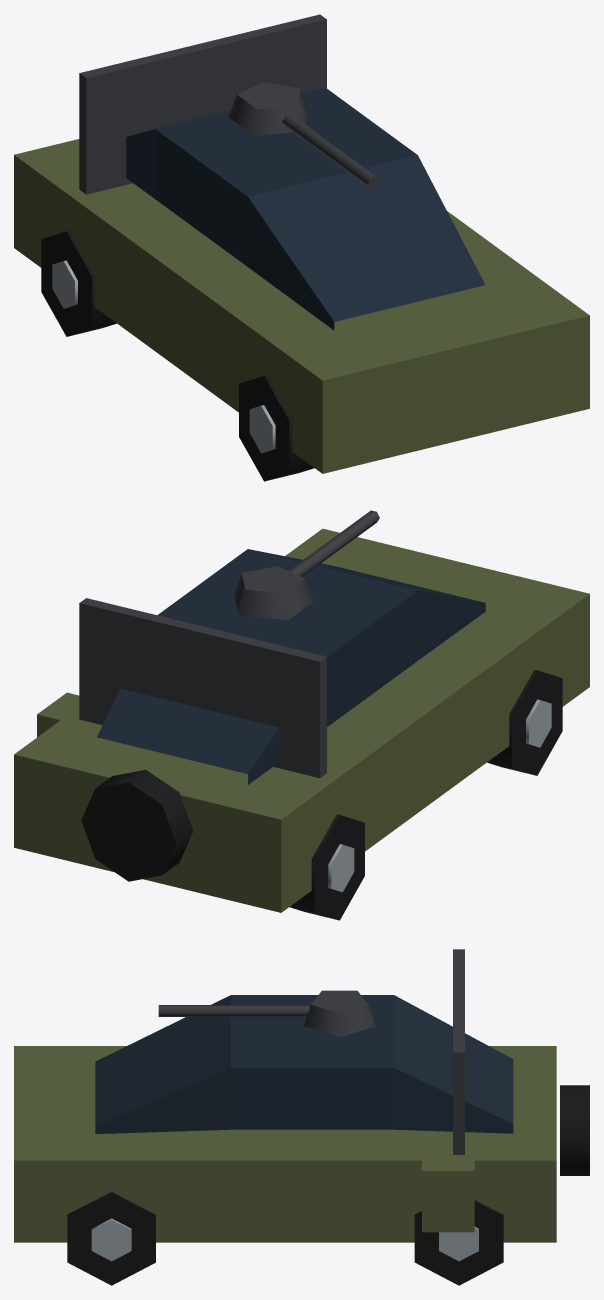
File: veh_ground_jeep_a07_lod1.glb
3 views of the same model, one above another, from view 1: azimuth 30°, elevation 25°; view 2: azimuth 150°, elevation 25°; view 3: azimuth 270°, elevation 25° (orthographic). The views are drawn at different scales.
Visible parts, largest first — view 1: body, wheel_0, wheel_2, gun; view 2: body, gun, wheel_2, wheel_0; view 3: body, wheel_3, wheel_1, gun.
Boxes of the visible parts, box(x1,y1,x2,y2) form: body: box(14, 14, 589, 473); wheel_0: box(41, 230, 116, 336); wheel_2: box(239, 375, 314, 481); gun: box(228, 82, 379, 188); body: box(14, 528, 589, 912); gun: box(234, 510, 379, 619); wheel_2: box(487, 669, 562, 775); wheel_0: box(289, 814, 364, 920); body: box(14, 949, 589, 1242); wheel_3: box(67, 1191, 155, 1285); wheel_1: box(414, 1200, 503, 1285); gun: box(158, 990, 375, 1037).
Bounding box in the file's own units: 2 × 1.66 × 3.82.
